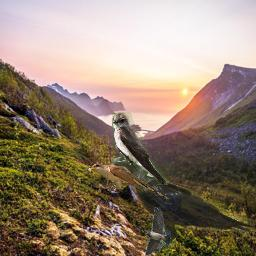Crow: (110, 154, 256, 253)
Cuckoo: (86, 163, 171, 200)
Swallow: (112, 112, 168, 185), (145, 207, 171, 256)
